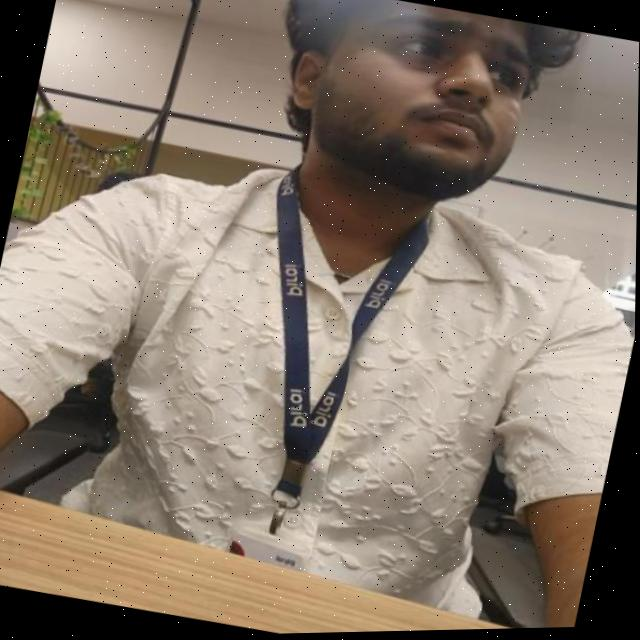id_card: (195, 163, 442, 589)
